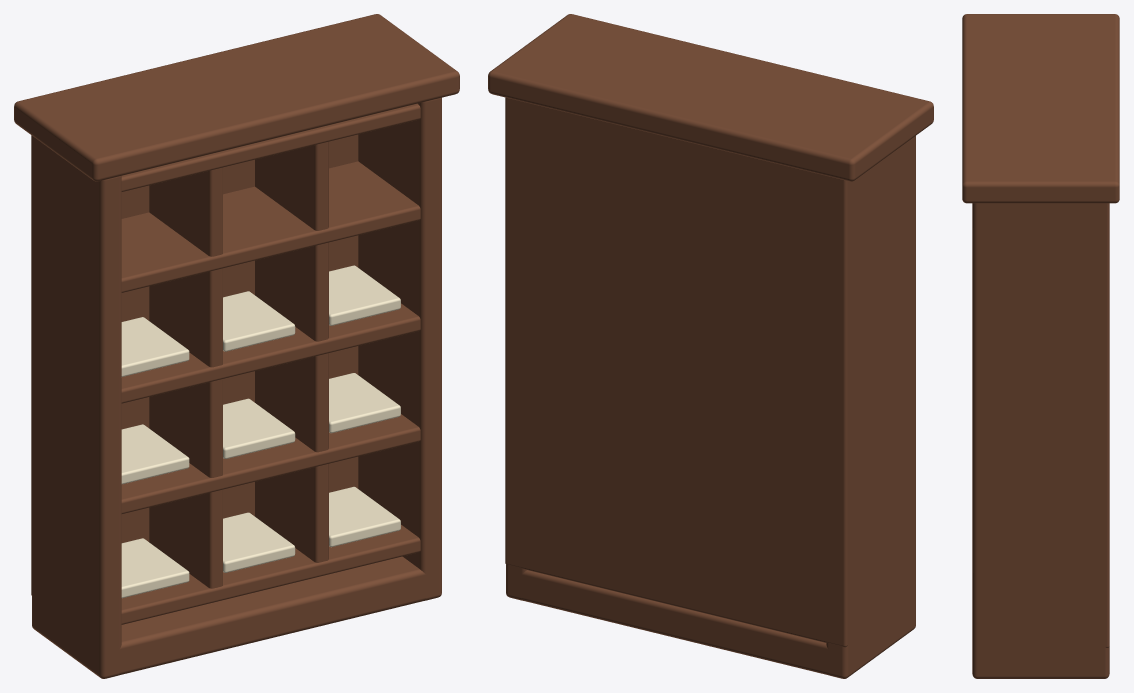
The model's file is royal-court-and-throne-palace-pigeonhole-dispatch-cabi-bc1b3b00__29396.glb.
The picture shows the model from 3 angles, left to right: view 1: azimuth 30°, elevation 25°; view 2: azimuth 150°, elevation 25°; view 3: azimuth 270°, elevation 25°; orthographic projection. The views are drawn at different scales.
Parts seen in each view (by area): view 1: pigeonhole-dispatch-cabinet; view 2: pigeonhole-dispatch-cabinet; view 3: pigeonhole-dispatch-cabinet.
Boxes of the visible parts, x1,y1,x2,y2 form: pigeonhole-dispatch-cabinet: (14, 14, 459, 678); pigeonhole-dispatch-cabinet: (488, 14, 933, 678); pigeonhole-dispatch-cabinet: (962, 14, 1119, 678).
Bounding box in the file's own units: 1.18 × 1.62 × 0.46.
